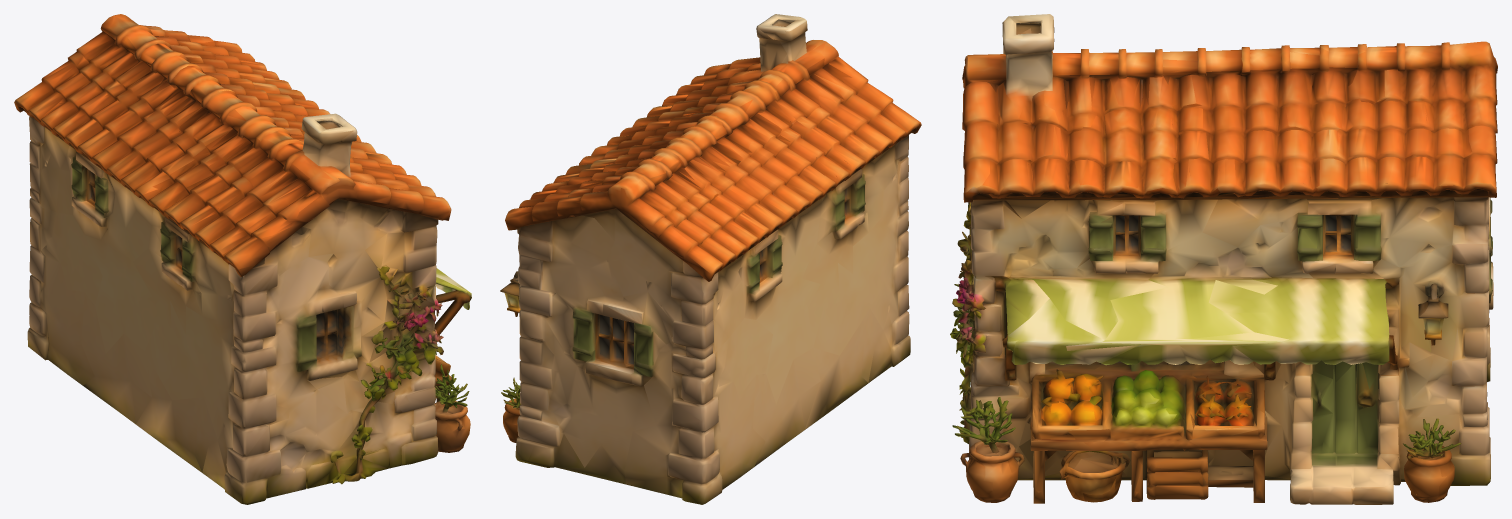
File: Piece12.fbx
The picture shows the model from 3 angles, left to right: view 1: azimuth 30°, elevation 25°; view 2: azimuth 150°, elevation 25°; view 3: azimuth 270°, elevation 25°; orthographic projection. The views are drawn at different scales.
Visible parts, largest first — view 1: Piece12; view 2: Piece12; view 3: Piece12.
Boxes of the visible parts, x1,y1,x2,y2 form: Piece12: (14, 14, 471, 504); Piece12: (500, 14, 921, 504); Piece12: (950, 14, 1497, 504).
Size of the model in its own units: 65.24 by 82.9 by 99.96.
1 material, 1 textured.
